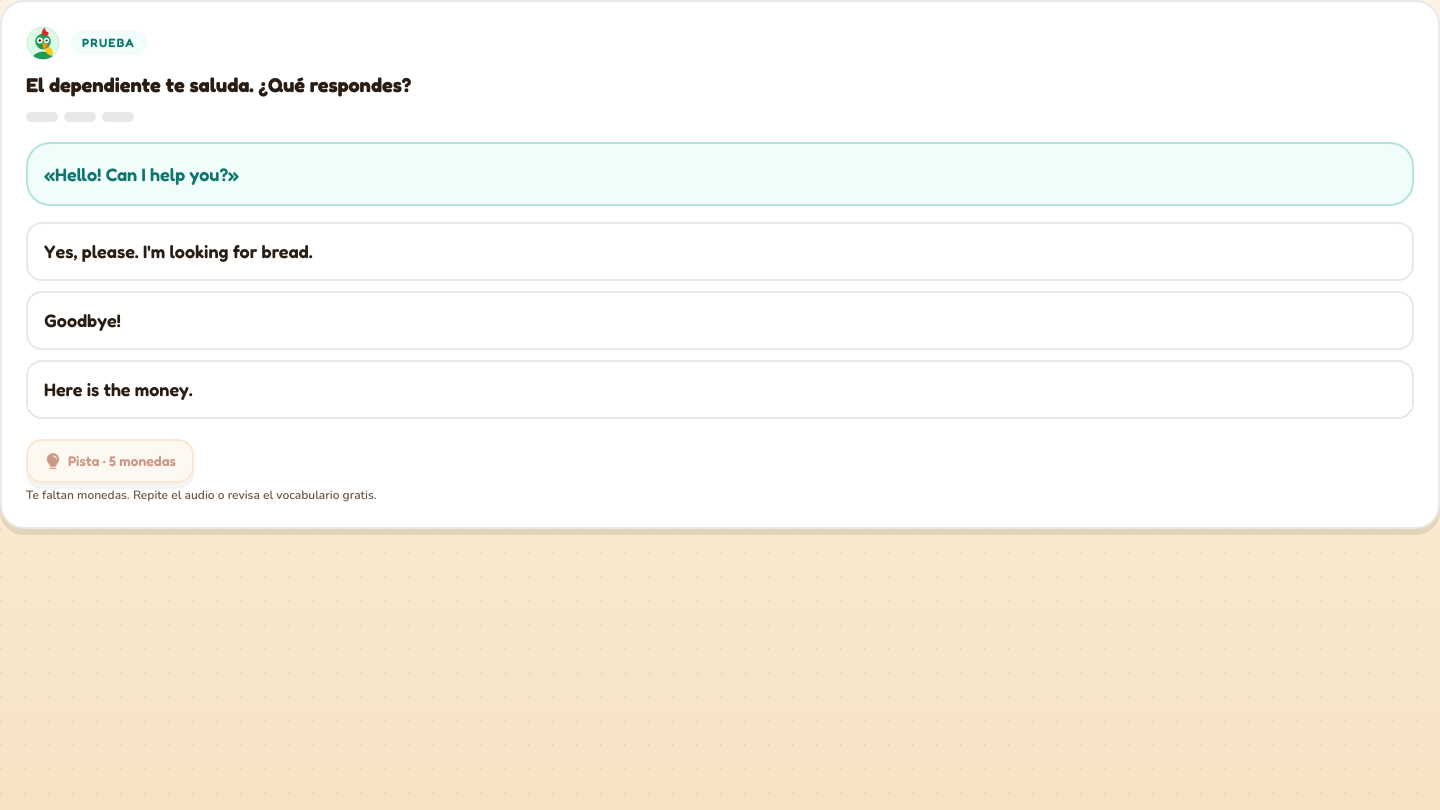
it: DialogueChallenge › wrong reply shows retry feedback
This screenshot has width=1440, height=810.
Click the button "Goodbye!".
click(82, 320)  # box [26,290,1414,350]
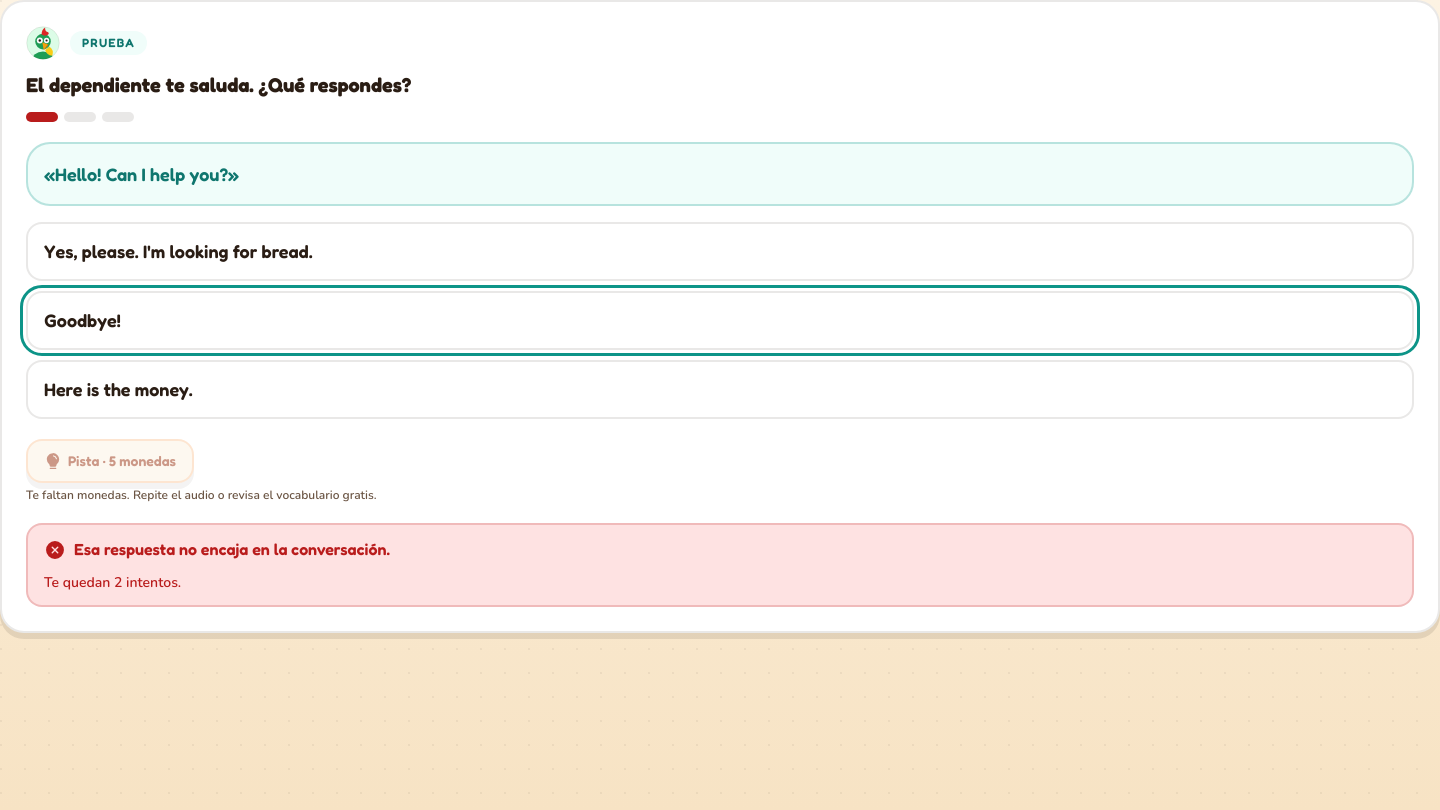
Check: the text "Esa respuesta no encaja en la conversación." is shown, box [44,538,390,560]
